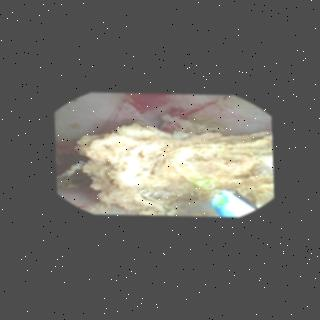fiber: (208, 192, 248, 215)
laser: (190, 179, 204, 186)
stone: (72, 117, 268, 214)
